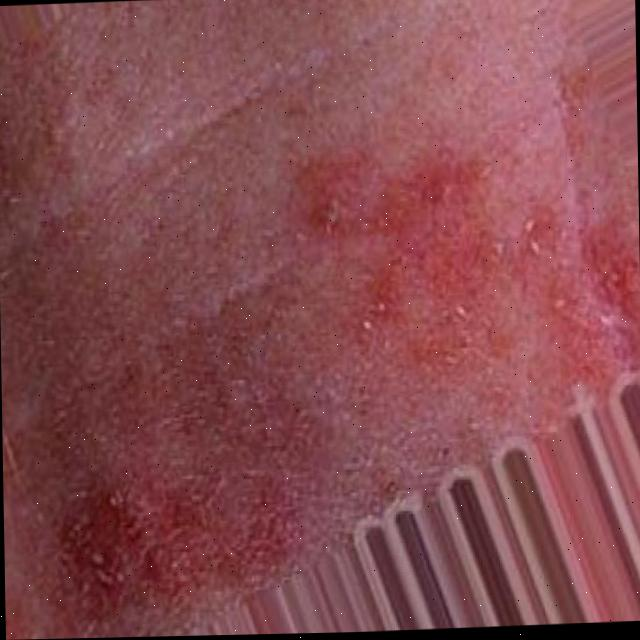Rosacea: (2, 173, 624, 617)
